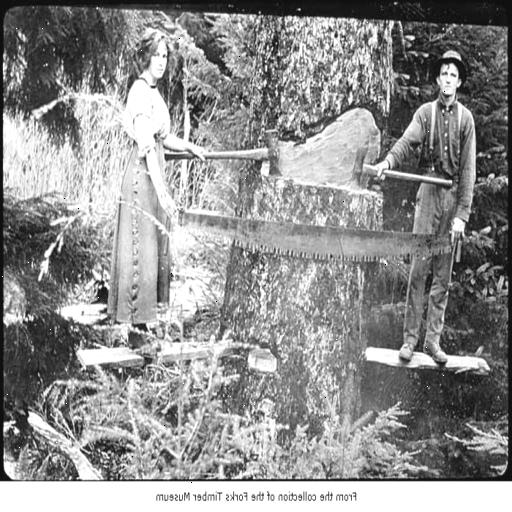Axe: (164, 121, 286, 178), (352, 146, 455, 186)
